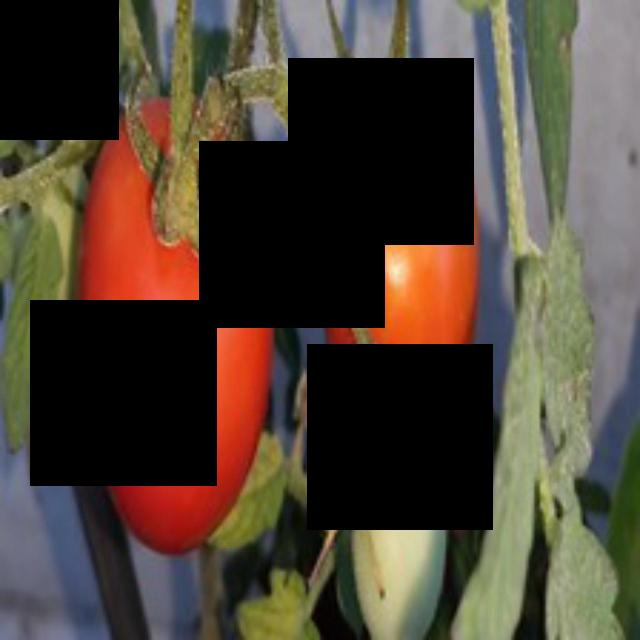tomato: (72, 109, 297, 570)
